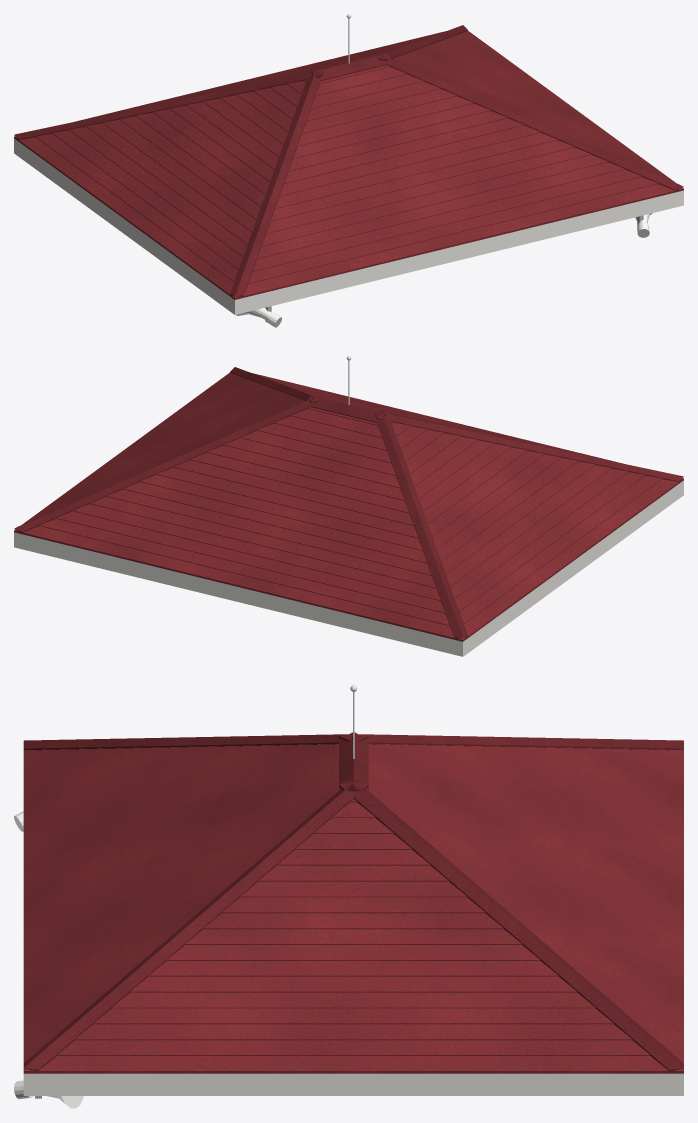
The model's file is cabin_roof.glb.
3 renders of one model, top to bottom at view 1: azimuth 30°, elevation 25°; view 2: azimuth 150°, elevation 25°; view 3: azimuth 270°, elevation 25°, orthographic. The views are drawn at different scales.
Visible parts, largest first — view 1: cabin_roof_shingle, cabin_roof_trim_w, cabin_roof_shingle_c, cabin_roof_paint_w; view 2: cabin_roof_shingle, cabin_roof_trim_w, cabin_roof_shingle_c; view 3: cabin_roof_shingle, cabin_roof_shingle_c, cabin_roof_trim_w.
Boxes of the visible parts, x1,y1,x2,y2 form: cabin_roof_shingle: [14, 31, 683, 299]; cabin_roof_trim_w: [14, 138, 683, 314]; cabin_roof_shingle_c: [14, 25, 683, 296]; cabin_roof_paint_w: [236, 213, 652, 327]; cabin_roof_shingle: [14, 372, 683, 641]; cabin_roof_trim_w: [14, 480, 683, 656]; cabin_roof_shingle_c: [14, 367, 683, 638]; cabin_roof_shingle: [23, 743, 683, 1073]; cabin_roof_shingle_c: [23, 732, 683, 1071]; cabin_roof_trim_w: [23, 1073, 683, 1095].
Bounding box in the file's own units: 6.76 × 2.69 × 5.84.
8 materials, 3 textured.
